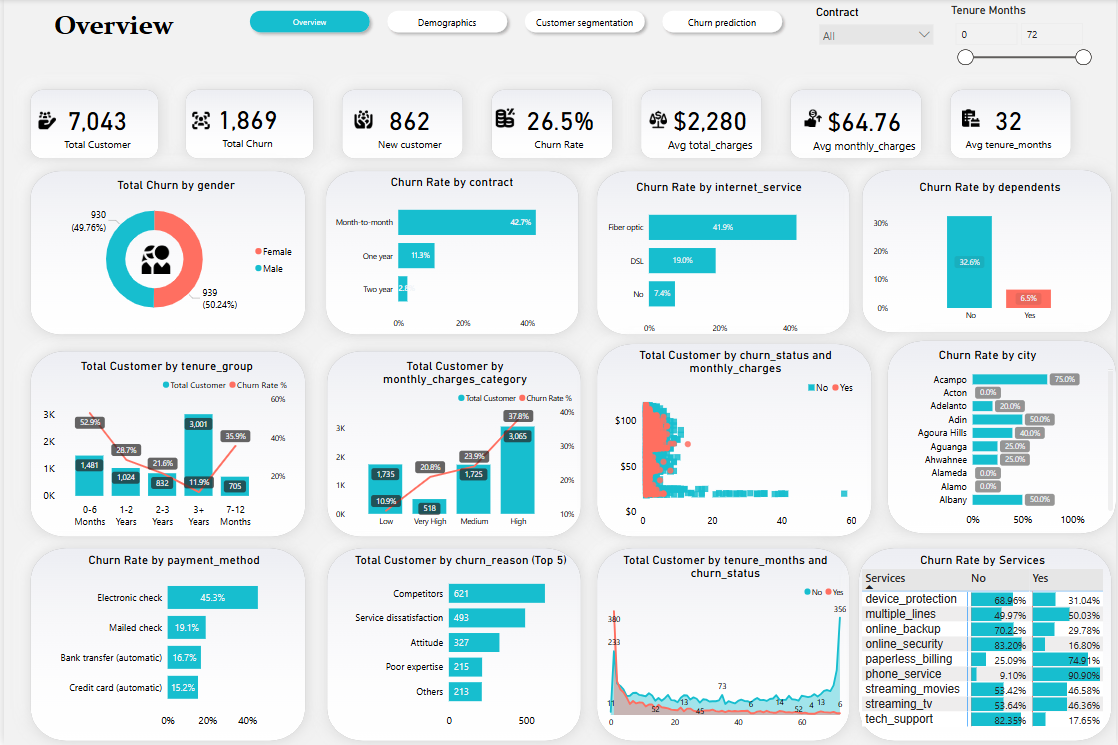

Layout of this report page (visuals, bound fields, positions):
{"tool":"powerbi","page":{"name":"Overview","canvas":[1780,1200],"ordinal":0},"visuals":[{"type":"image","box":[1528.8,177.5,37.5,37.5],"z":0},{"type":"image","box":[1275,175,38,43],"z":1000},{"type":"image","box":[1028.8,177.5,37.5,42.5],"z":2000},{"type":"image","box":[782.5,163.8,40,66],"z":3000},{"type":"image","box":[556.7,180,38.3,38.3],"z":4000},{"type":"image","box":[290,182.5,50,38],"z":5000},{"type":"image","box":[47.5,182.5,43,38],"z":6000},{"type":"image","box":[213.8,395,58.8,55],"z":7000},{"type":"donutChart","fields":{"Y":["telco_churn.Nr. of Churned customers"],"Category":["telco_churn.gender"]},"box":[75.7,292.9,398.6,240],"z":8000},{"type":"card","fields":{"Values":["Avg(telco_churn.tenure_months)"]},"box":[1510,151.7,195,111.7],"z":9000},{"type":"card","fields":{"Values":["Avg(telco_churn.total_charges)"]},"box":[1047.5,151.2,163.8,112.5],"z":10000},{"type":"card","fields":{"Values":["Avg(telco_churn.monthly_charges)"]},"box":[1285,153.8,181.2,111.2],"z":11000},{"type":"card","fields":{"Values":["telco_churn.Total Customer"]},"box":[48.3,151.7,203.3,111.7],"z":12000},{"type":"clusteredBarChart","title":"Churn Rate by payment_method","fields":{"Category":["telco_churn.payment_method"],"Y":["telco_churn.Churn Rate %"]},"box":[70,891.4,404.3,290],"z":13000},{"type":"clusteredBarChart","title":"Churn Rate by contract","fields":{"Category":["telco_churn.contract"],"Y":["telco_churn.Churn Rate %"]},"box":[518.8,287.5,397.5,255],"z":14000},{"type":"clusteredBarChart","title":"Churn Rate  by internet_service","fields":{"Category":["telco_churn.internet_service"],"Y":["telco_churn.Churn Rate %"]},"box":[955,295,376.7,255],"z":15000},{"type":"clusteredBarChart","title":"Churn Rate  by city","fields":{"Category":["telco_churn.city"],"Y":["telco_churn.Churn Rate %"]},"box":[1368.3,563.3,411.7,296.7],"z":16000},{"type":"clusteredColumnChart","title":"Churn Rate by dependents","fields":{"Category":["telco_churn.dependents"],"Y":["telco_churn.Churn Rate %"]},"box":[1385,295,383.3,235],"z":17000},{"type":"card","fields":{"Values":["telco_churn.Nr. of Churned customers"]},"box":[290,150,200,113.3],"z":18000},{"type":"areaChart","title":"Total Customer by tenure_months and churn_status","fields":{"Category":["telco_churn.tenure_months"],"Series":["telco_churn.churn_label"],"Y":["telco_churn.Total Customer"]},"box":[955,891.7,396.7,290],"z":19000},{"type":"scatterChart","title":"Total Customer by churn_status and monthly_charges","fields":{"X":["telco_churn.Total Customer"],"Series":["telco_churn.churn_label"],"Y":["telco_churn.monthly_charges"]},"box":[971.7,563.3,396.7,296.7],"z":20000},{"type":"lineStackedColumnComboChart","title":"Total Customer by tenure_group","fields":{"Category":["telco_churn.tenure_group"],"Y2":["telco_churn.Churn Rate %"],"Y":["telco_churn.Total Customer"]},"box":[58.3,581.7,405,278.3],"z":21000},{"type":"lineStackedColumnComboChart","title":"Total Customer by monthly_charges_category","fields":{"Category":["telco_churn.monthly_charges_category"],"Y2":["telco_churn.Churn Rate %"],"Y":["telco_churn.Total Customer"]},"box":[525,581.7,391.7,278.3],"z":22000},{"type":"barChart","title":"Total Customer by churn_reason (Top 5)","fields":{"Y":["telco_churn.Total Customer"],"Category":["telco_churn.churn_reason (groups)"]},"box":[543.3,891.7,373.3,290],"z":23000},{"type":"pivotTable","title":"Churn Rate by Services","fields":{"Rows":["telco_services.Services"],"Columns":["telco_services.Status"],"Values":["Sum(telco_services.churn_value)"]},"box":[1368.6,891.4,395.7,290],"z":24000},{"type":"card","fields":{"Values":["telco_churn.Churn Rate %"]},"box":[805,151.2,168.8,111.2],"z":25000},{"type":"card","fields":{"Values":["telco_churn.New customer"]},"box":[556.7,151.7,186.7,111.7],"z":26000},{"type":"pageNavigator","box":[383.3,15,870,53.3],"z":27000},{"type":"textbox","box":[45.7,15.7,258.6,88.6],"z":28000},{"type":"slicer","title":"Contract","fields":{"Values":["telco_churn.contract"]},"box":[1294.3,15.7,202.9,105.7],"z":29000},{"type":"slicer","title":"Tenure Months","fields":{"Values":["telco_churn.tenure_months"]},"box":[1510,13.3,238.3,110],"z":30000}]}

Visuals, with their boxes in screenshot pixels (x1, y1, x2, y2), scaled from the page's 1780x1200 canvas onto the 1118x745 screenshot:
image: crop(960, 110, 984, 133)
image: crop(801, 109, 825, 135)
image: crop(646, 110, 670, 137)
image: crop(491, 102, 517, 143)
image: crop(350, 112, 374, 136)
image: crop(182, 113, 214, 137)
image: crop(30, 113, 57, 137)
image: crop(134, 245, 171, 279)
donutChart - telco_churn.Nr. of Churned customers x telco_churn.gender: crop(48, 182, 298, 331)
card - Avg(telco_churn.tenure_months): crop(948, 94, 1071, 164)
card - Avg(telco_churn.total_charges): crop(658, 94, 761, 164)
card - Avg(telco_churn.monthly_charges): crop(807, 95, 921, 165)
card - telco_churn.Total Customer: crop(30, 94, 158, 164)
"Churn Rate by payment_method" clusteredBarChart: crop(44, 553, 298, 733)
"Churn Rate by contract" clusteredBarChart: crop(326, 178, 576, 337)
"Churn Rate  by internet_service" clusteredBarChart: crop(600, 183, 836, 341)
"Churn Rate  by city" clusteredBarChart: crop(859, 350, 1117, 534)
"Churn Rate by dependents" clusteredColumnChart: crop(870, 183, 1111, 329)
card - telco_churn.Nr. of Churned customers: crop(182, 93, 308, 163)
"Total Customer by tenure_months and churn_status" areaChart: crop(600, 554, 849, 734)
"Total Customer by churn_status and monthly_charges" scatterChart: crop(610, 350, 859, 534)
"Total Customer by tenure_group" lineStackedColumnComboChart: crop(37, 361, 291, 534)
"Total Customer by monthly_charges_category" lineStackedColumnComboChart: crop(330, 361, 576, 534)
"Total Customer by churn_reason (Top 5)" barChart: crop(341, 554, 576, 734)
"Churn Rate by Services" pivotTable: crop(860, 553, 1108, 733)
card - telco_churn.Churn Rate %: crop(506, 94, 612, 163)
card - telco_churn.New customer: crop(350, 94, 467, 164)
pageNavigator: crop(241, 9, 787, 42)
textbox: crop(29, 10, 191, 65)
"Contract" slicer: crop(813, 10, 940, 75)
"Tenure Months" slicer: crop(948, 8, 1098, 77)
